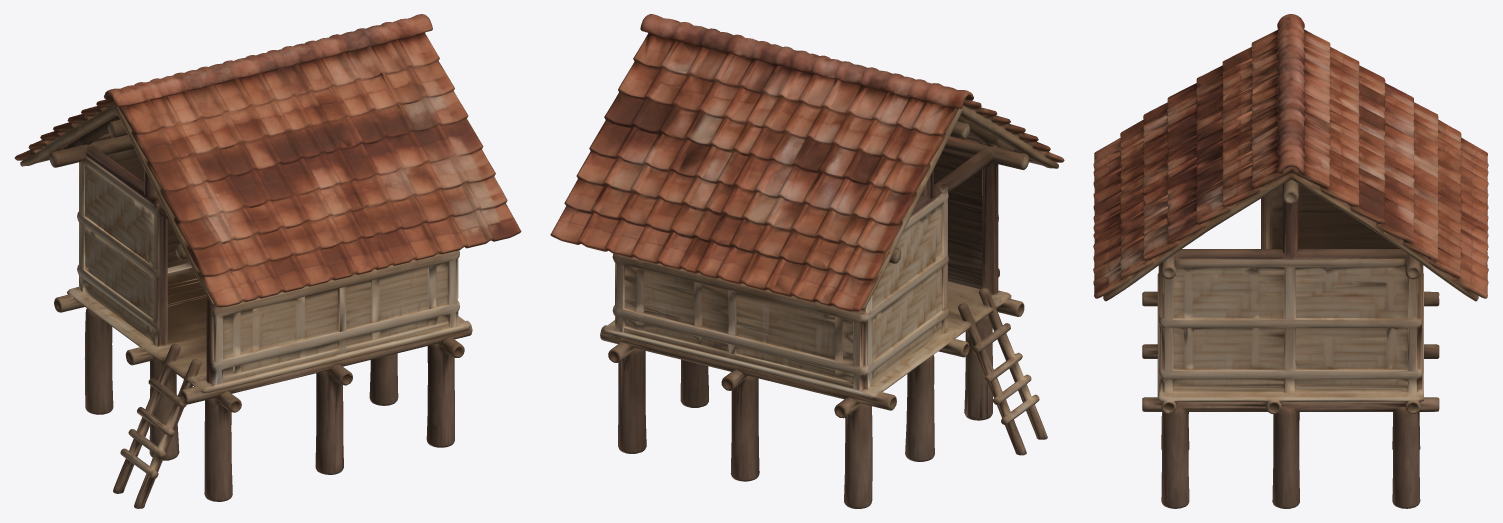
File: gubuk_sawah.glb
3 renders of one model, left to right at view 1: azimuth 30°, elevation 25°; view 2: azimuth 150°, elevation 25°; view 3: azimuth 270°, elevation 25°, orthographic. The views are drawn at different scales.
Parts seen in each view (by area): view 1: material; view 2: material; view 3: material.
Part boxes in pixels (x1,y1,x2,y2): material: [14, 14, 521, 508]; material: [550, 14, 1064, 508]; material: [1093, 14, 1488, 508].
Bounding box in the file's own units: 0.7875 × 0.8184 × 0.8076.
1 material, 1 textured.
